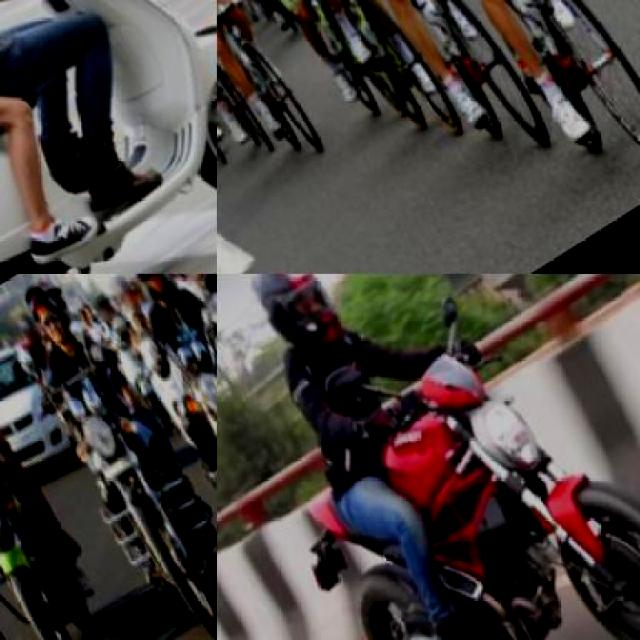With Helmet: (234, 274, 360, 378), (11, 274, 83, 355), (109, 274, 182, 315), (31, 274, 80, 329), (108, 274, 146, 318), (12, 305, 46, 349), (91, 294, 118, 328), (172, 274, 211, 291)
